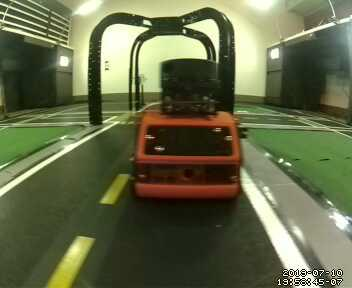pheeno: (133, 58, 243, 200)
